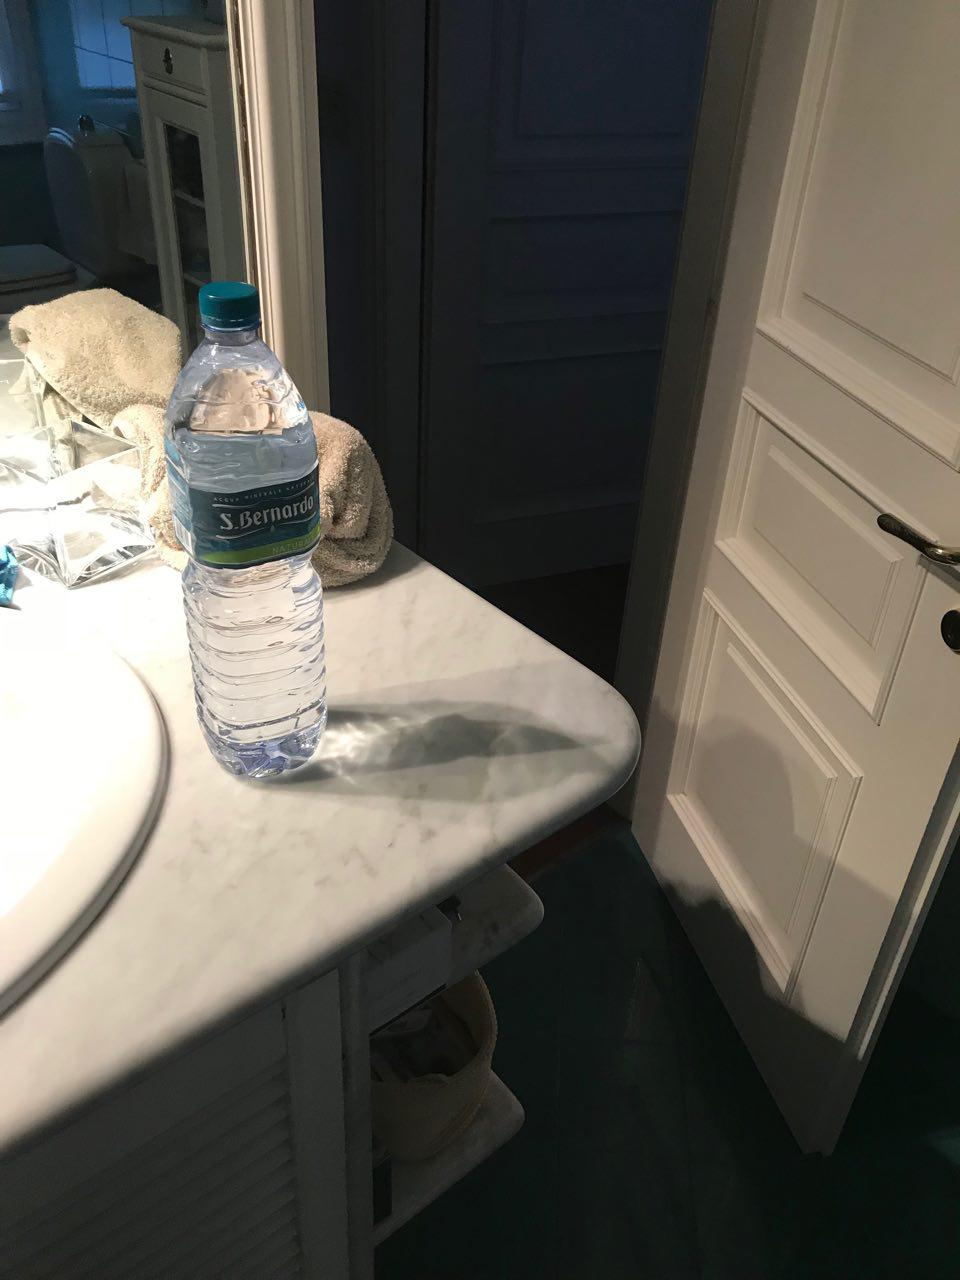san_bernardo: (162, 282, 328, 779)
